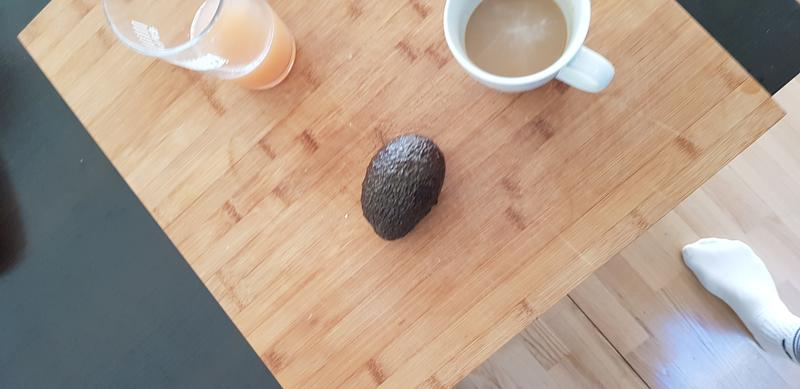Avocado: (351, 131, 448, 246)
